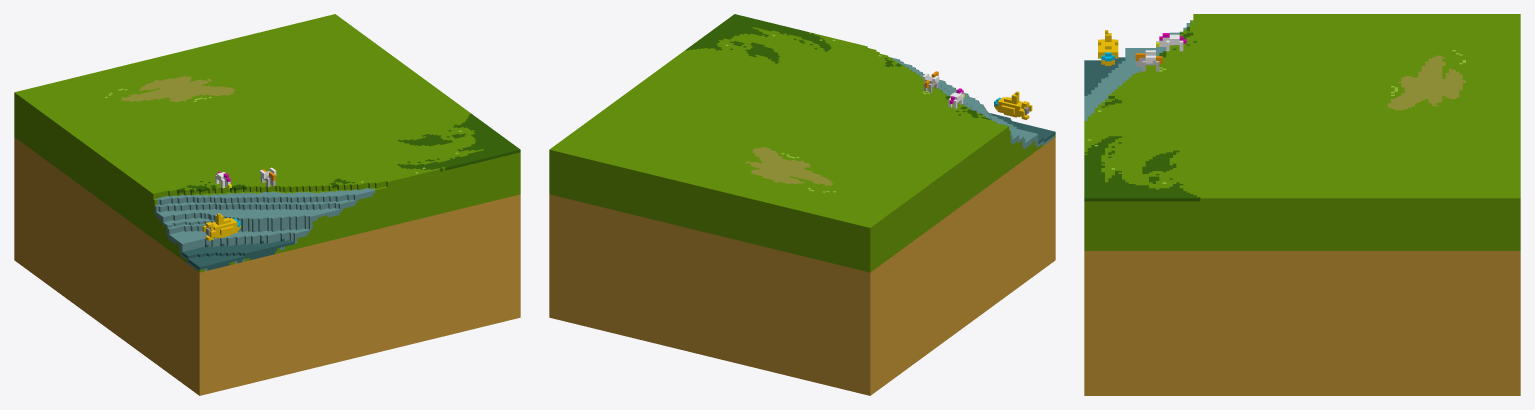
3 renders of one model, left to right at view 1: azimuth 30°, elevation 25°; view 2: azimuth 150°, elevation 25°; view 3: azimuth 270°, elevation 25°, orthographic. The views are drawn at different scales.
Visible parts, largest first — view 1: 2H; view 2: 2H; view 3: 2H.
Part boxes in pixels (<box>): 2H: <box>14,14,520,395</box>; 2H: <box>549,14,1055,395</box>; 2H: <box>1084,14,1520,395</box>.
Size of the model in its own units: 12.8 by 6.9 by 12.8.
1 material, 1 textured.
